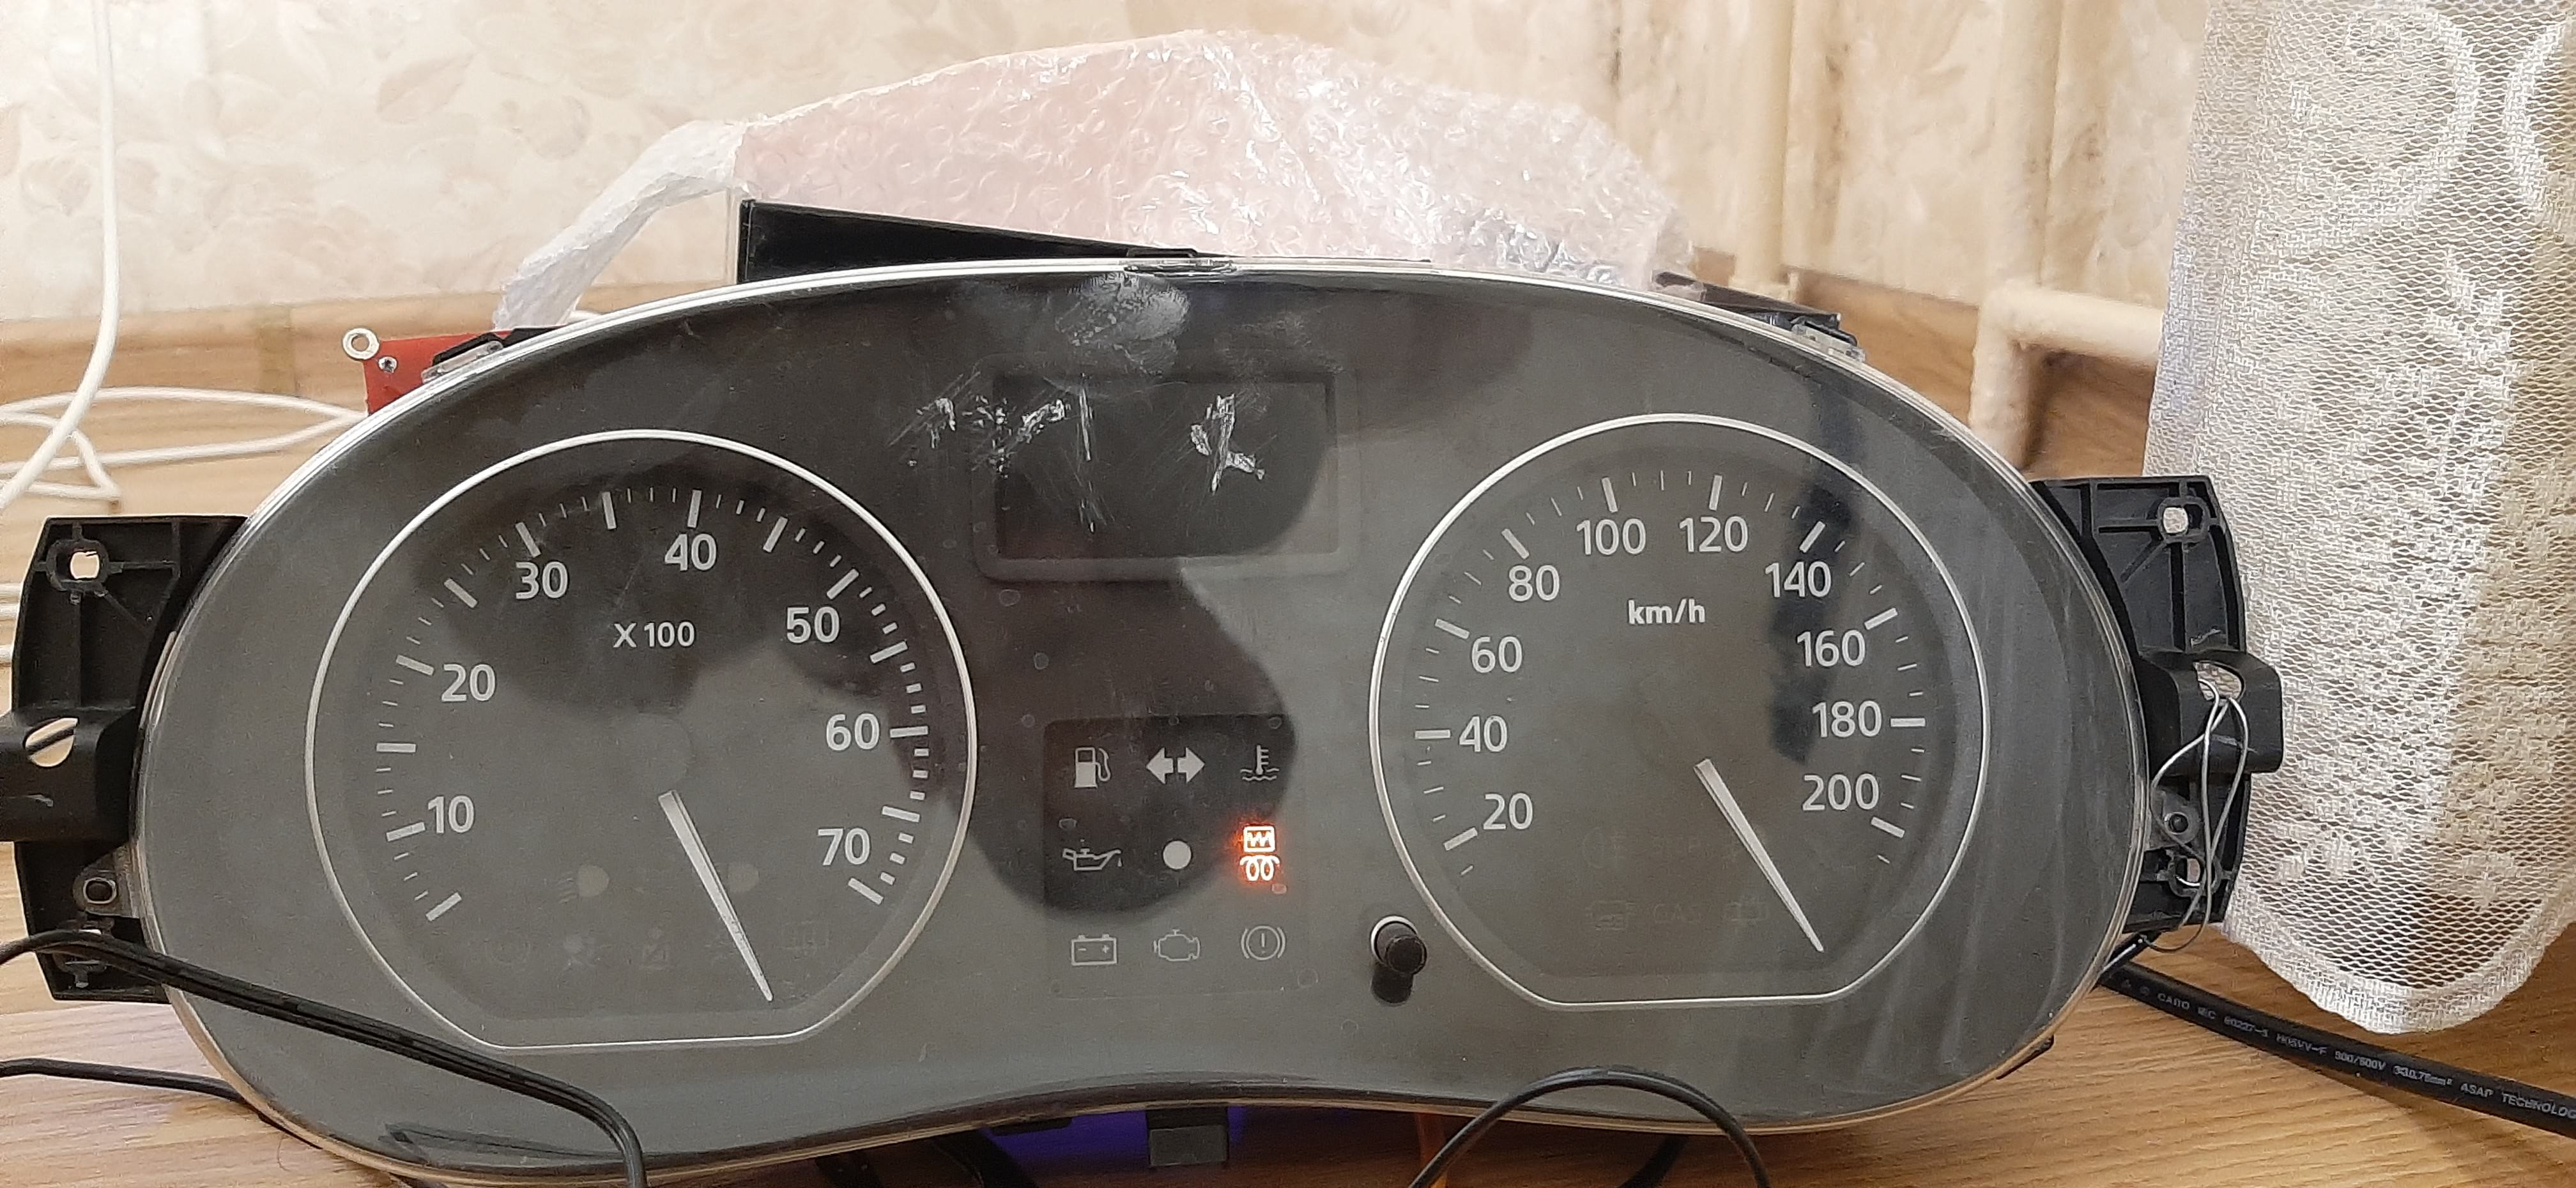diesel3: (1239, 823, 1281, 881)
